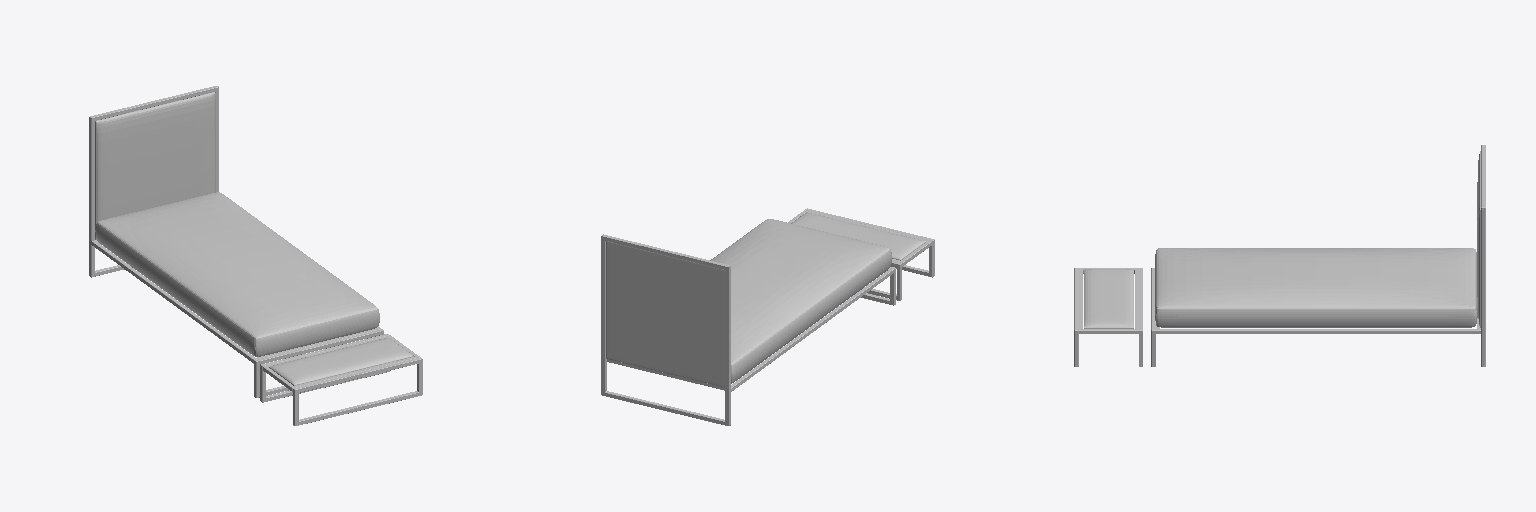
The model's file is Bed 01.obj.
The picture shows the model from 3 angles: view 1: azimuth 30°, elevation 25°; view 2: azimuth 150°, elevation 25°; view 3: azimuth 270°, elevation 25°; orthographic projection.
Visible parts, largest first — view 1: obj_03, obj_04, obj_01, obj_05, obj_02; view 2: obj_03, obj_04, obj_01, obj_02, obj_05; view 3: obj_03, obj_01, obj_02, obj_05, obj_04.
Part boxes in pixels (x1,y1,x2,y2): obj_03: (95, 192, 379, 356); obj_04: (95, 92, 215, 239); obj_01: (89, 86, 383, 397); obj_05: (260, 334, 422, 425); obj_02: (269, 338, 413, 385); obj_03: (710, 219, 891, 383); obj_04: (606, 241, 724, 387); obj_01: (601, 234, 895, 425); obj_02: (791, 212, 925, 260); obj_05: (788, 208, 934, 300); obj_03: (1155, 248, 1477, 327); obj_01: (1151, 145, 1485, 366); obj_02: (1084, 269, 1133, 328); obj_05: (1074, 268, 1142, 366); obj_04: (1477, 151, 1480, 327).
Bounding box in the file's own units: 39.35 × 46.86 × 110.